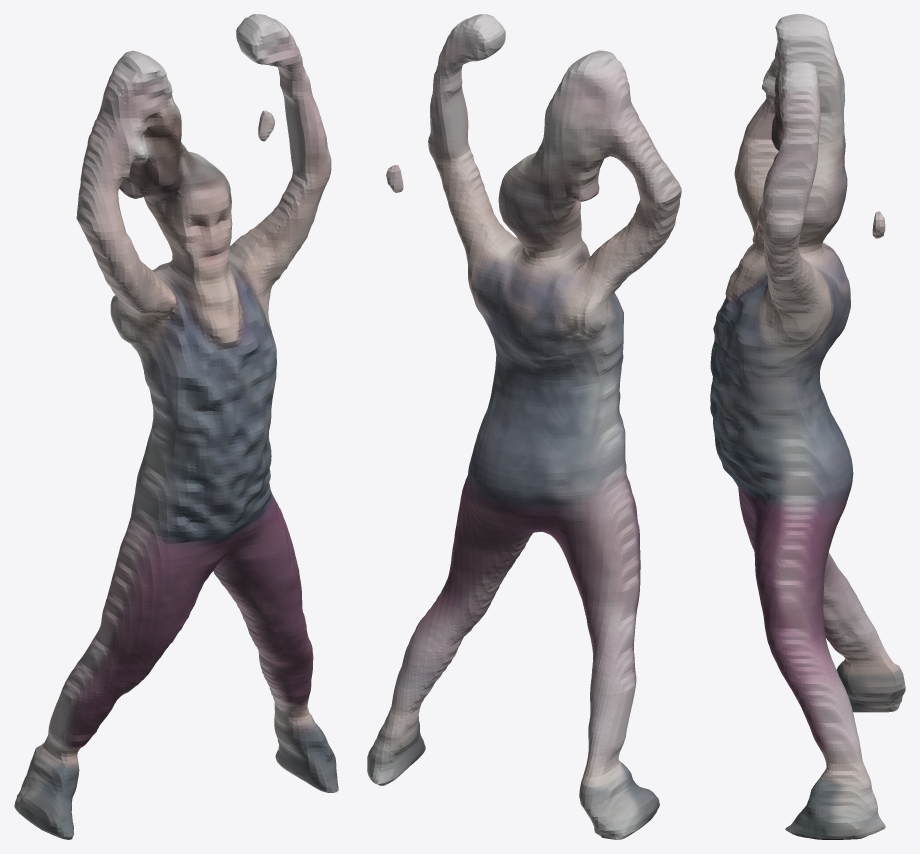
Rendered from 0145_tex.glb.
3 renders of one model, left to right at view 1: azimuth 30°, elevation 25°; view 2: azimuth 150°, elevation 25°; view 3: azimuth 270°, elevation 25°, orthographic. The views are drawn at different scales.
Parts seen in each view (by area): view 1: 0145_tex.obj; view 2: 0145_tex.obj; view 3: 0145_tex.obj.
Part boxes in pixels (x1,y1,x2,y2): 0145_tex.obj: (14, 14, 338, 839); 0145_tex.obj: (367, 14, 681, 839); 0145_tex.obj: (710, 14, 905, 839).
Bounding box in the file's own units: 0.3456 × 0.8964 × 0.2144.
